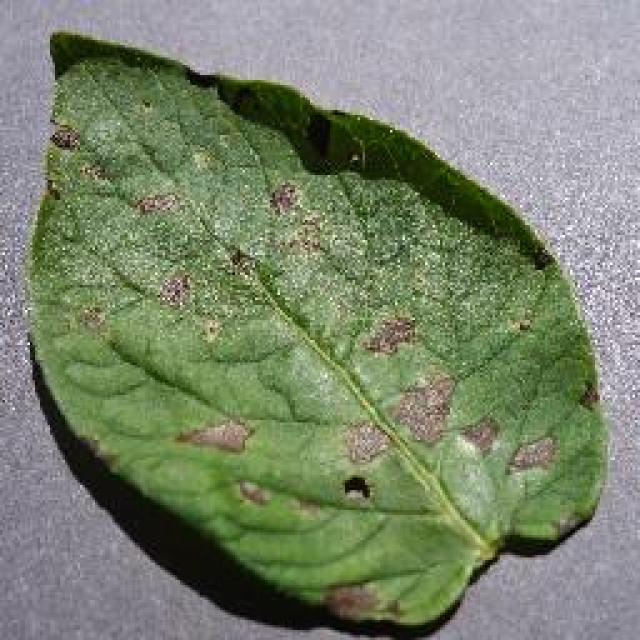early_blight: (20, 25, 612, 637)
